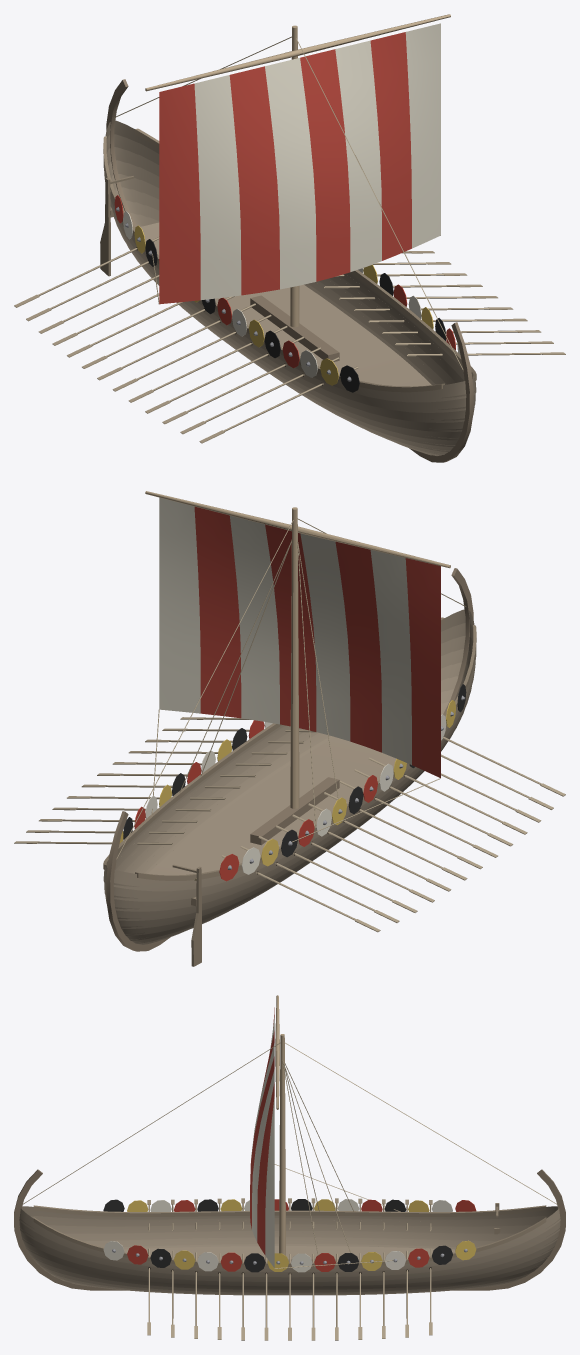
File: longship-914.glb
3 renders of one model, top to bottom at view 1: azimuth 30°, elevation 25°; view 2: azimuth 150°, elevation 25°; view 3: azimuth 270°, elevation 25°, orthographic. The views are drawn at different scales.
Visible parts, largest first — view 1: wool-red, wool-white, planks, ash, deck, keel, gunwale, pine, black, yellow, red, white (+2 smaller); view 2: wool-white, wool-red, planks, deck, ash, pine, keel, gunwale, rope, red, white, yellow (+2 smaller); view 3: planks, gunwale, ash, wool-white, keel, black, yellow, deck, red, white, wool-red, rope (+1 smaller).
Boxes of the visible parts, x1=… form: wool-red: x1=159, y1=32, x2=411, y2=304; wool-white: x1=194, y1=23, x2=440, y2=299; planks: x1=103, y1=120, x2=476, y2=455; ash: x1=14, y1=237, x2=565, y2=443; deck: x1=140, y1=222, x2=431, y2=386; keel: x1=106, y1=79, x2=473, y2=462; gunwale: x1=103, y1=128, x2=476, y2=392; pine: x1=145, y1=14, x2=450, y2=327; black: x1=145, y1=239, x2=445, y2=392; yellow: x1=134, y1=225, x2=433, y2=385; red: x1=114, y1=195, x2=455, y2=368; white: x1=123, y1=211, x2=460, y2=377; wool-white: x1=159, y1=497, x2=411, y2=764; wool-red: x1=194, y1=506, x2=440, y2=777; planks: x1=103, y1=609, x2=476, y2=944; deck: x1=148, y1=737, x2=396, y2=875; ash: x1=14, y1=717, x2=565, y2=932; pine: x1=145, y1=491, x2=450, y2=808; keel: x1=106, y1=568, x2=473, y2=951; gunwale: x1=103, y1=617, x2=476, y2=880; rope: x1=116, y1=518, x2=466, y2=859; red: x1=134, y1=720, x2=377, y2=881; white: x1=145, y1=714, x2=446, y2=874; yellow: x1=119, y1=700, x2=455, y2=866; planks: x1=19, y1=1206, x2=560, y2=1295; gunwale: x1=33, y1=1205, x2=546, y2=1267; ash: x1=147, y1=1198, x2=432, y2=1340; wool-white: x1=251, y1=1018, x2=274, y2=1267; keel: x1=14, y1=1169, x2=565, y2=1290; black: x1=103, y1=1199, x2=452, y2=1272; yellow: x1=127, y1=1199, x2=476, y2=1271; deck: x1=124, y1=1246, x2=455, y2=1261; red: x1=127, y1=1199, x2=476, y2=1271; white: x1=103, y1=1199, x2=452, y2=1272; wool-red: x1=250, y1=1007, x2=274, y2=1254; rope: x1=23, y1=1042, x2=556, y2=1268.
Size of the model in its own units: 13.62 by 11.55 by 22.36.
